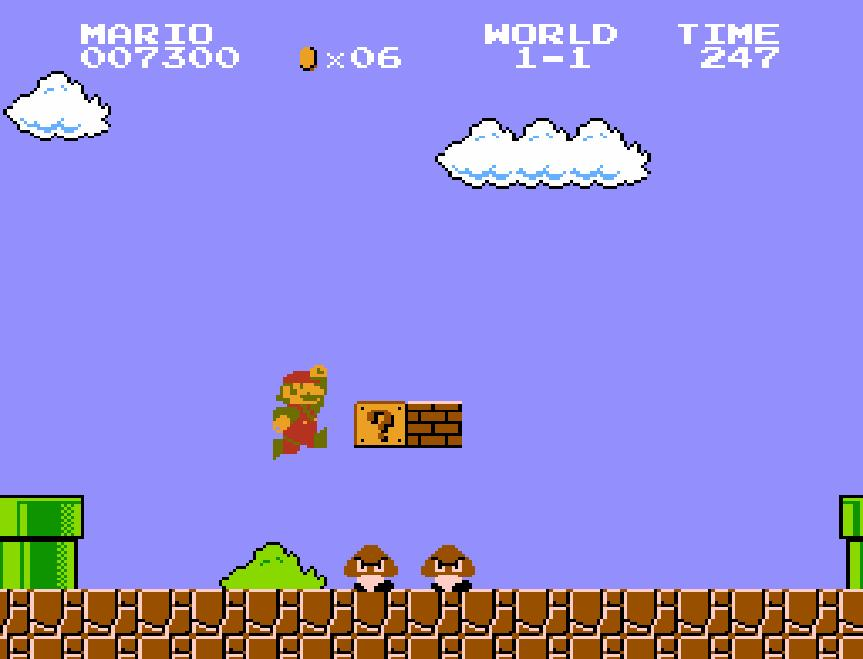big_mario: (270, 363, 328, 461)
